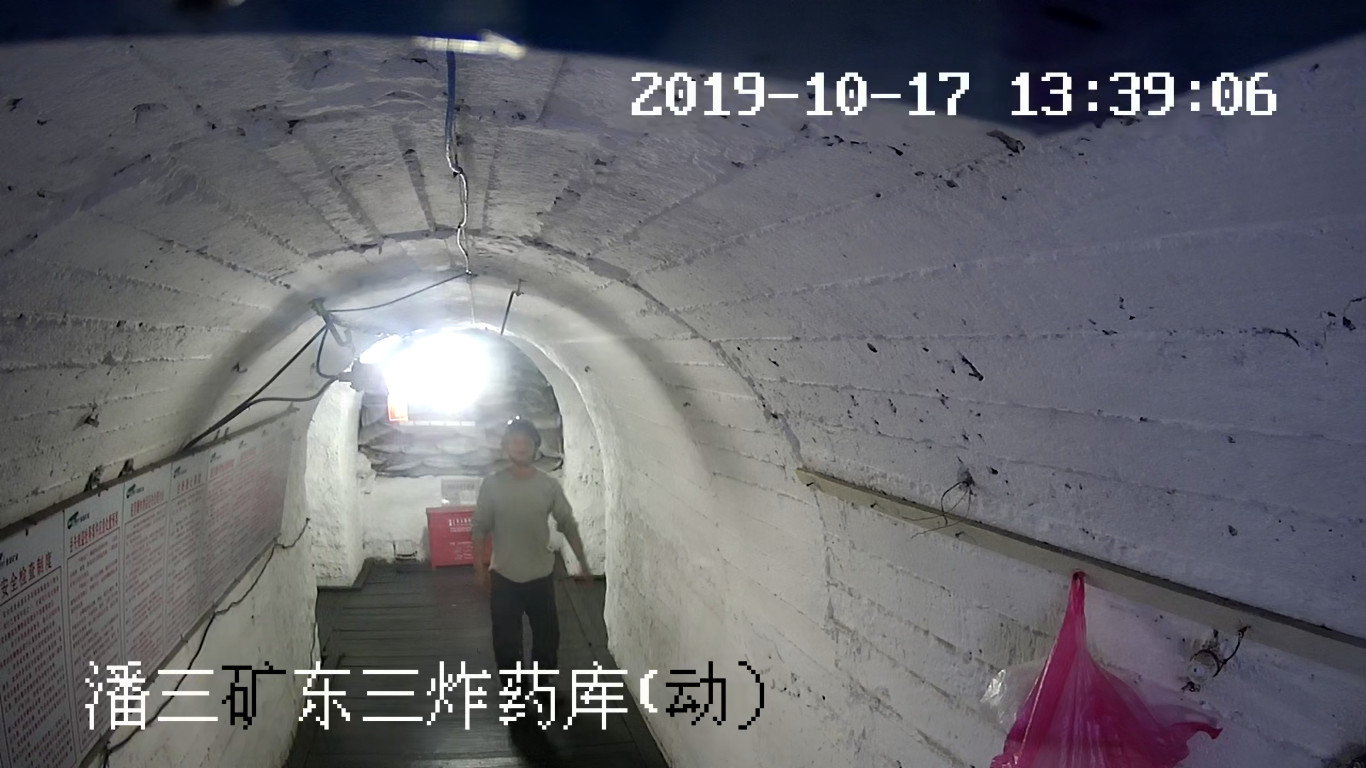helmet: (501, 415, 541, 448)
